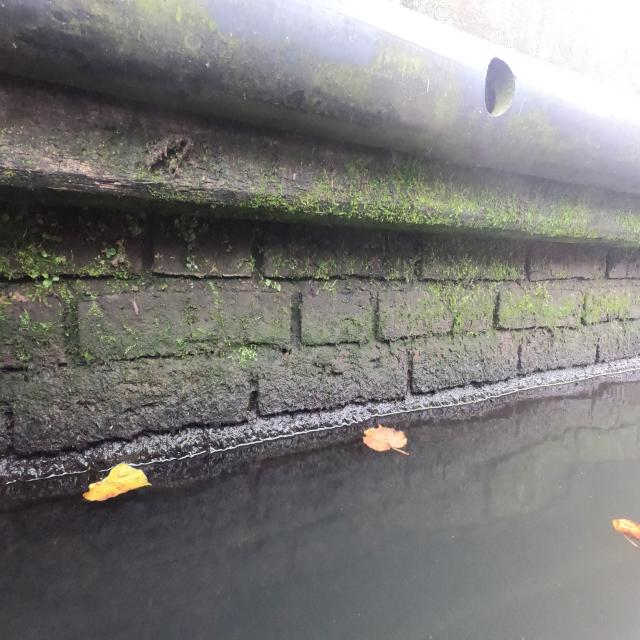water: (0, 383, 640, 638)
